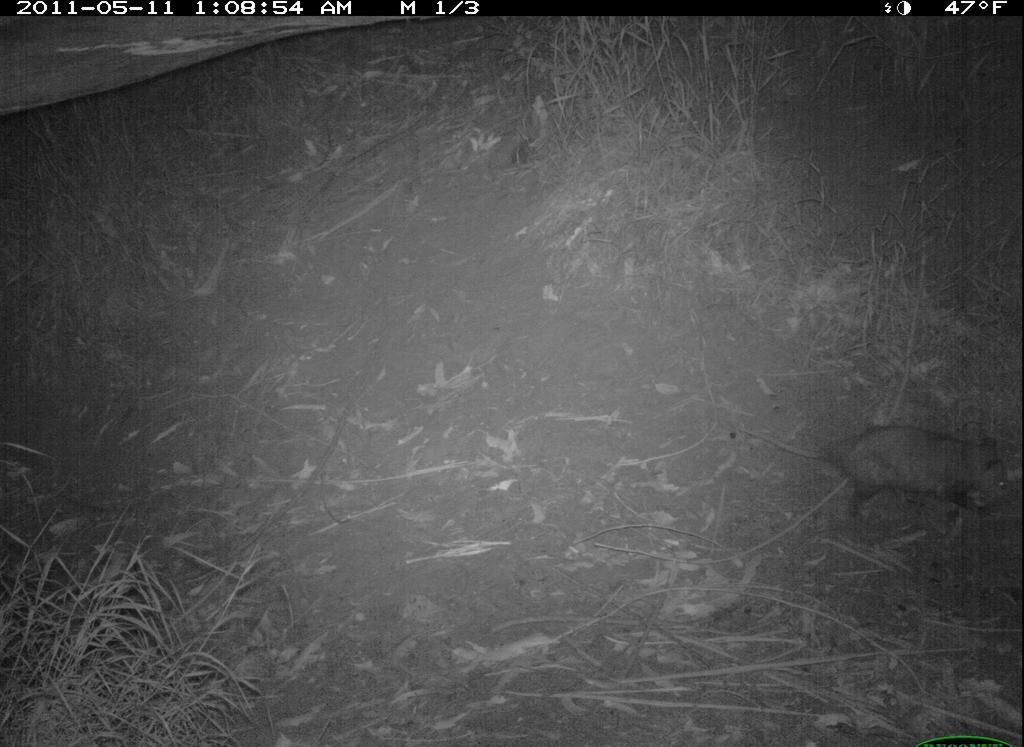opossum: (734, 411, 1024, 529)
